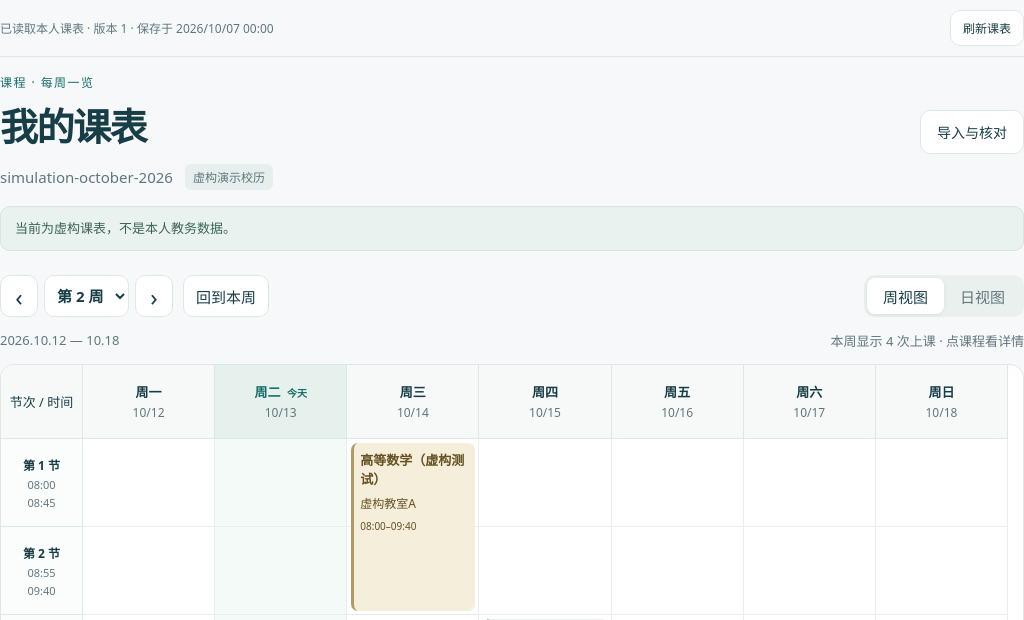
Test: connected timetable read-only states › refresh failure clears old records and never falls back to mock data
The width and height of the screenshot is (1024, 620).
What coordinates should you click on to do the following:
click the button "刷新课表"
I would click on:
 (987, 28)
Its box is left=950, top=10, right=1023, bottom=46.
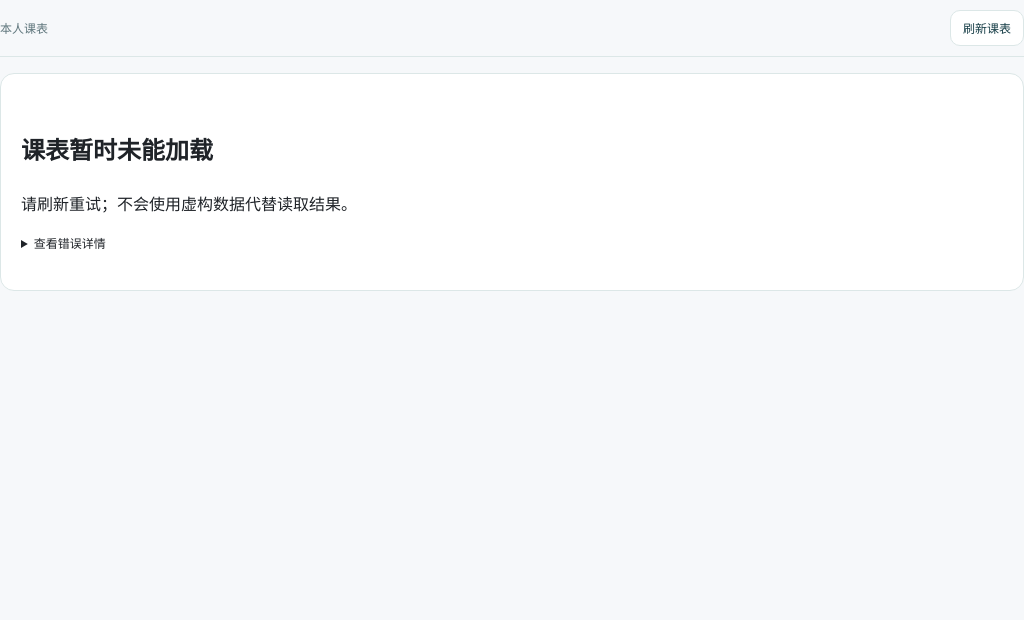
Now the text "课表暂时未能加载" is shown, box left=21, top=133, right=213, bottom=166
Now no buttons with class "tt-course" are shown
